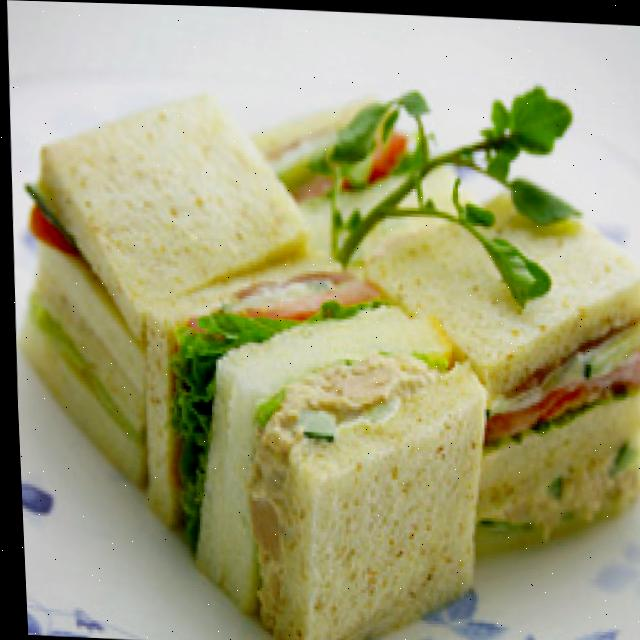三明治: (5, 84, 640, 640)
